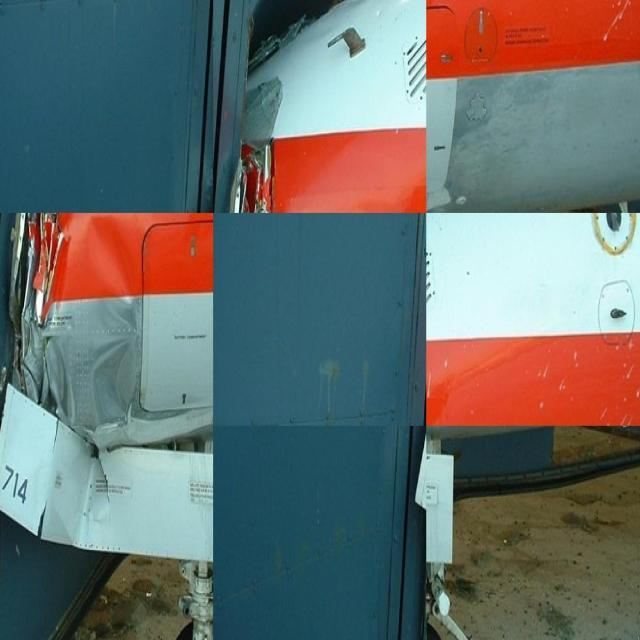dent: (76, 218, 144, 434)
